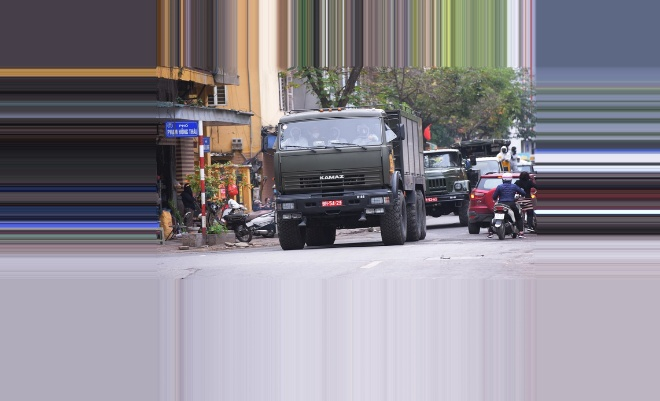plate: (317, 197, 344, 207)
